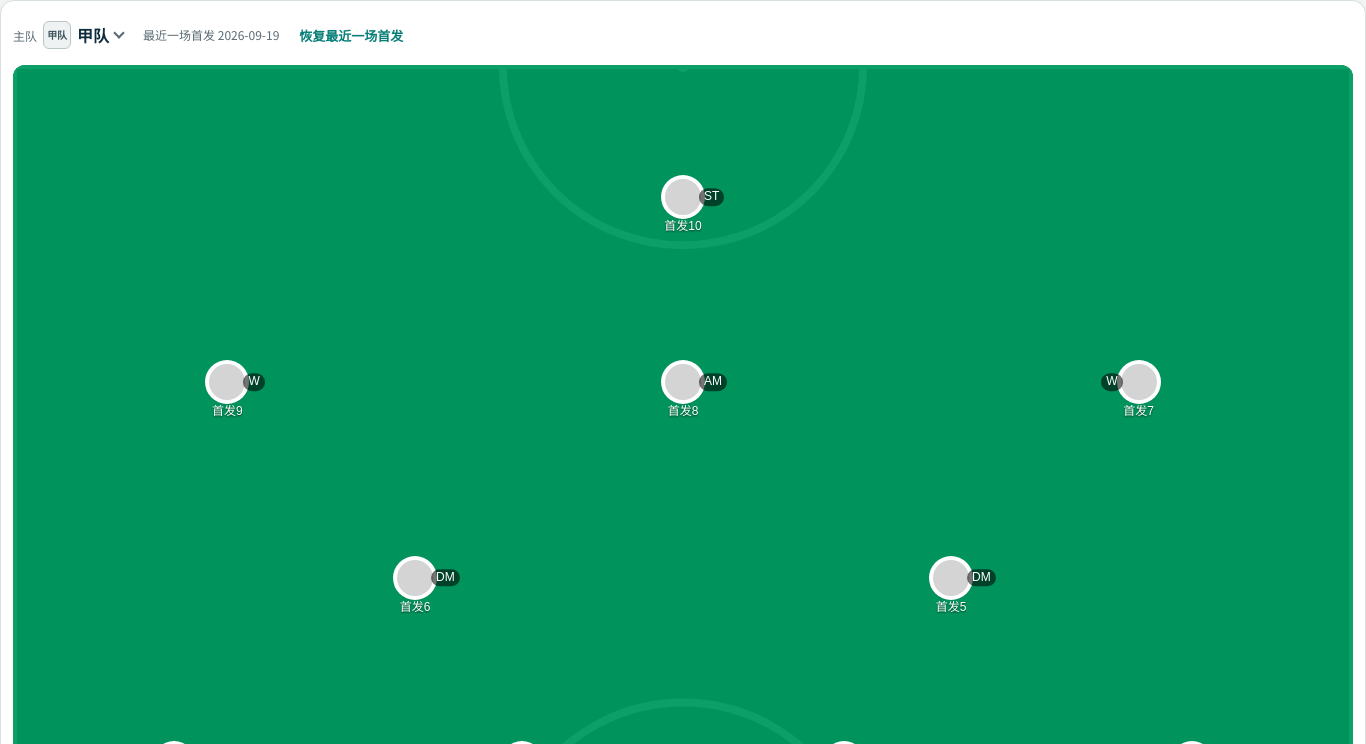
Test: 选人面板 › 点队名打开选队面板
What coordinates should you click on to do the following:
click the button with test id "team-pick-主队"
I would click on:
 (72, 35)
Its box is 13,13 -> 131,57.
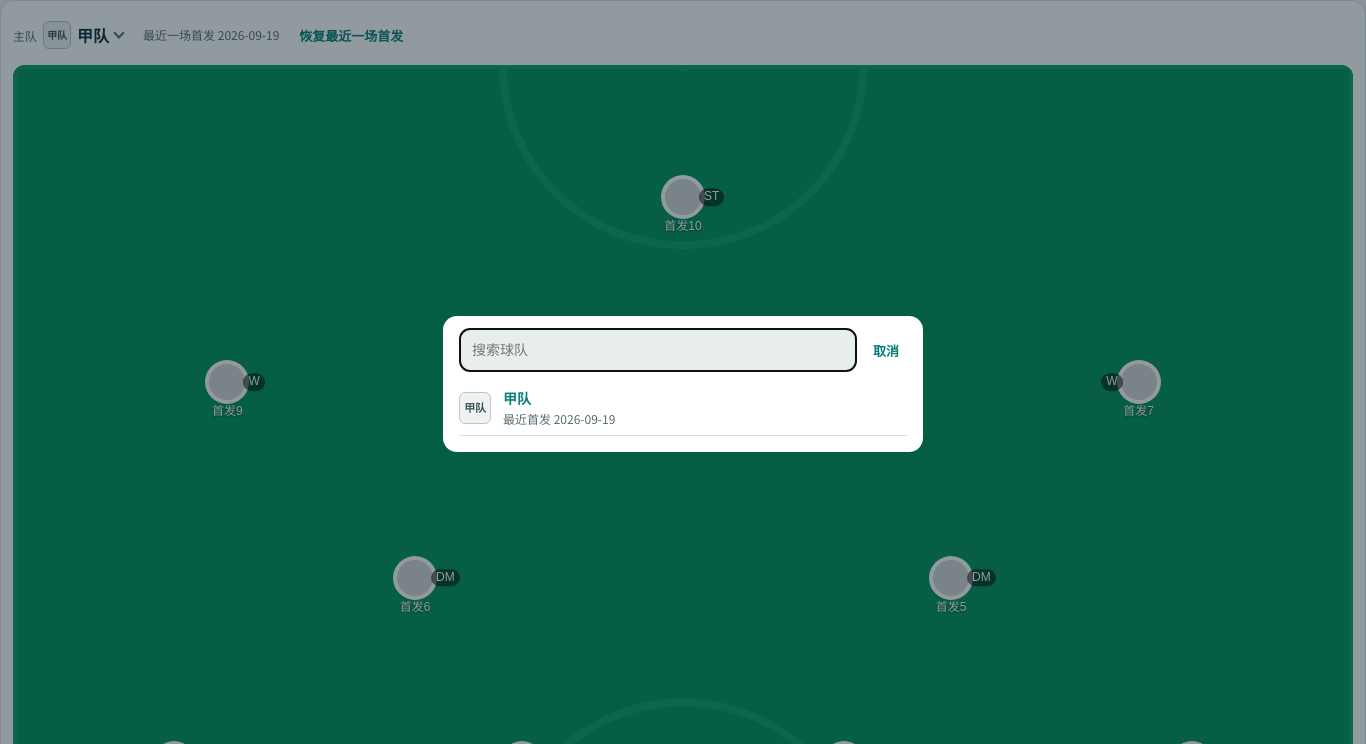
Now the button with test id "team-10" is shown, box 459,380 -> 907,436
